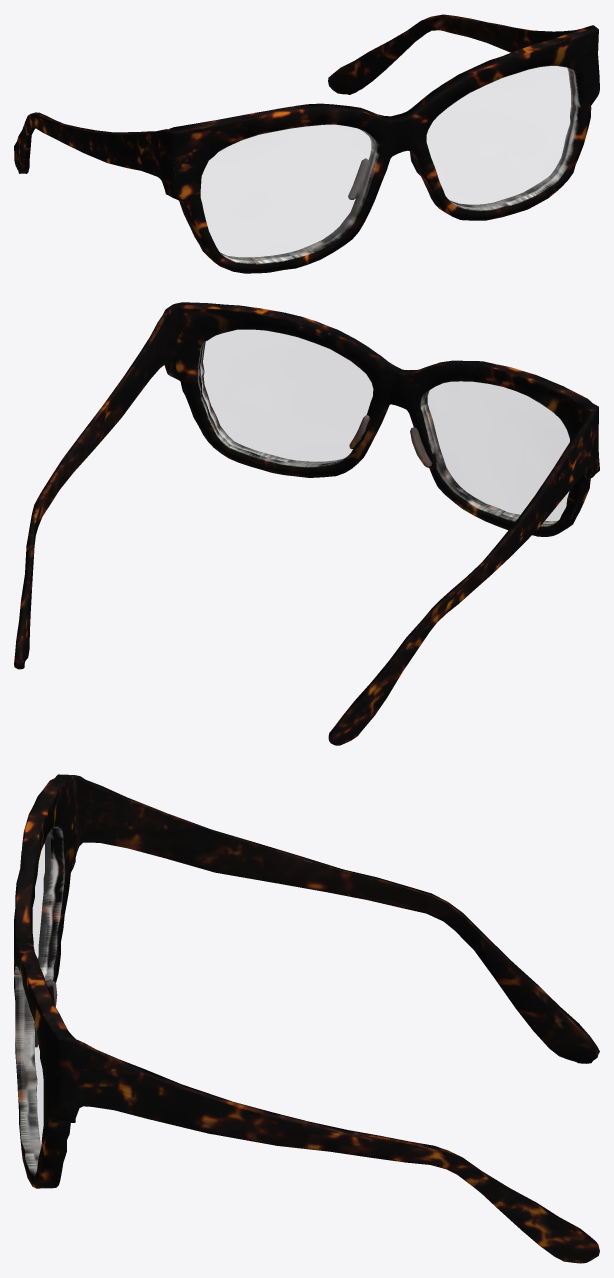
The model's file is frame-002-tortoise-rectangle-v2.glb.
3 views of the same model, one above another, from view 1: azimuth 30°, elevation 25°; view 2: azimuth 150°, elevation 25°; view 3: azimuth 270°, elevation 25° (orthographic). The views are drawn at different scales.
Visible parts, largest first — view 1: lenses, frame_front, temple_right, temple_left; view 2: lenses, frame_front, temple_left, temple_right; view 3: frame_front, temple_left, temple_right, lenses.
Part boxes in pixels (<box>): lenses: <box>201,66,577,260</box>; frame_front: <box>159,25,599,273</box>; temple_right: <box>328,14,587,94</box>; temple_left: <box>14,112,161,179</box>; lenses: <box>201,330,569,522</box>; frame_front: <box>164,302,599,536</box>; temple_left: <box>328,419,592,745</box>; temple_right: <box>14,309,170,669</box>; frame_front: <box>14,774,86,1188</box>; temple_left: <box>83,780,599,1063</box>; temple_right: <box>75,1039,599,1263</box>; lenses: <box>19,833,51,1169</box>.
Size of the model in its own units: 1 by 0.46 by 0.9258.
Materials: 2 (1 with a texture image).
